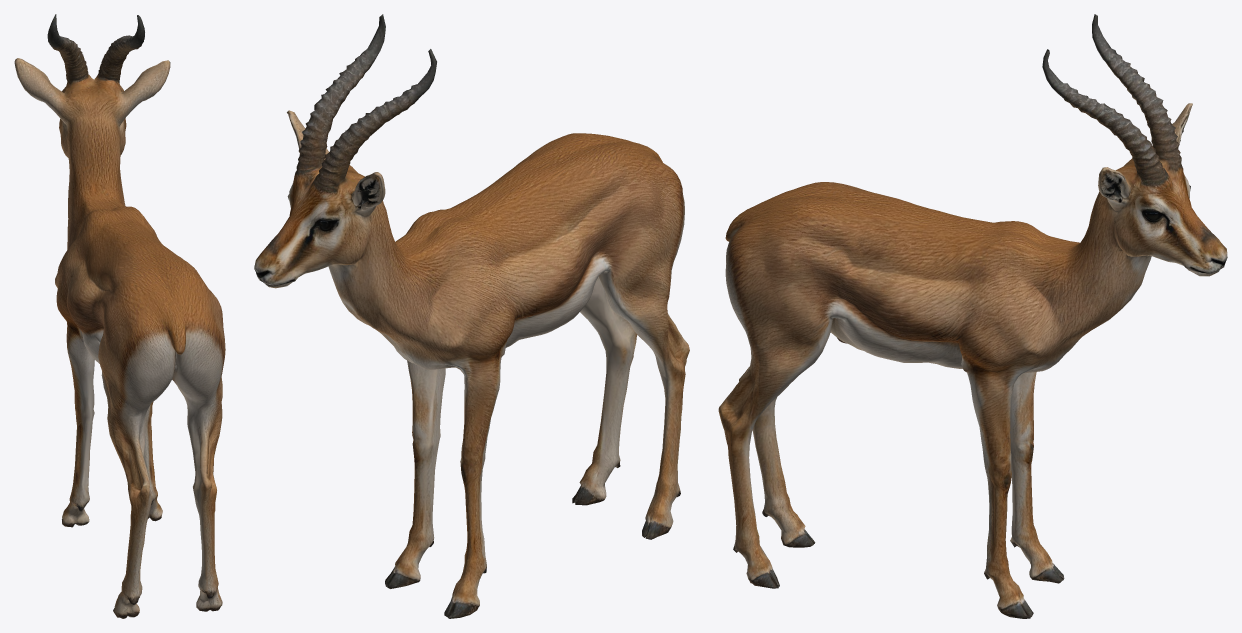
Rendered from gazelle.glb.
3 renders of one model, left to right at view 1: azimuth 30°, elevation 25°; view 2: azimuth 150°, elevation 25°; view 3: azimuth 270°, elevation 25°, orthographic. The views are drawn at different scales.
Visible parts, largest first — view 1: tripo_node_af61eca9-539b-42b8-bb9d-4a75f42d08bc; view 2: tripo_node_af61eca9-539b-42b8-bb9d-4a75f42d08bc; view 3: tripo_node_af61eca9-539b-42b8-bb9d-4a75f42d08bc.
Boxes of the visible parts, left/top/right/bottom form: tripo_node_af61eca9-539b-42b8-bb9d-4a75f42d08bc: left=14, top=14, right=225, bottom=618; tripo_node_af61eca9-539b-42b8-bb9d-4a75f42d08bc: left=254, top=14, right=689, bottom=618; tripo_node_af61eca9-539b-42b8-bb9d-4a75f42d08bc: left=718, top=14, right=1227, bottom=618.
Size of the model in its own units: 0.4056 by 1 by 0.8117.
Materials: 1 (1 with a texture image).
